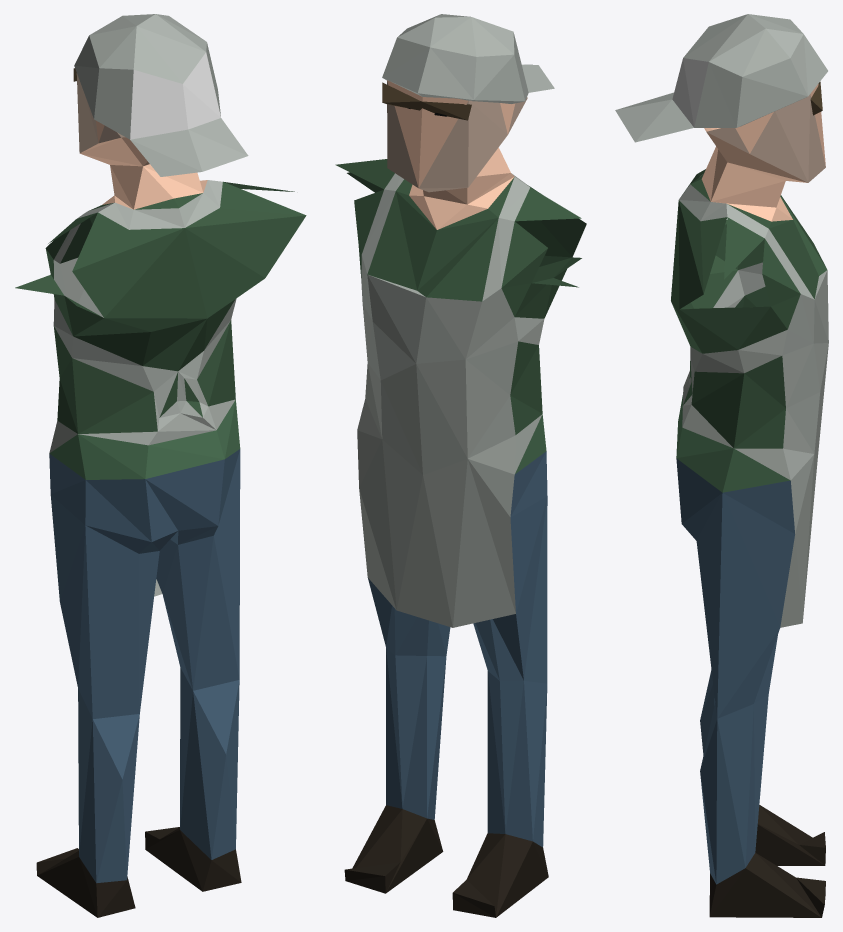
The model's file is Body_Lo.obj.
The picture shows the model from 3 angles, left to right: view 1: azimuth 30°, elevation 25°; view 2: azimuth 150°, elevation 25°; view 3: azimuth 270°, elevation 25°; orthographic projection.
Bounding box in the file's own units: 0.5854 × 1.83 × 0.4106.
Materials: 1 (1 with a texture image).
